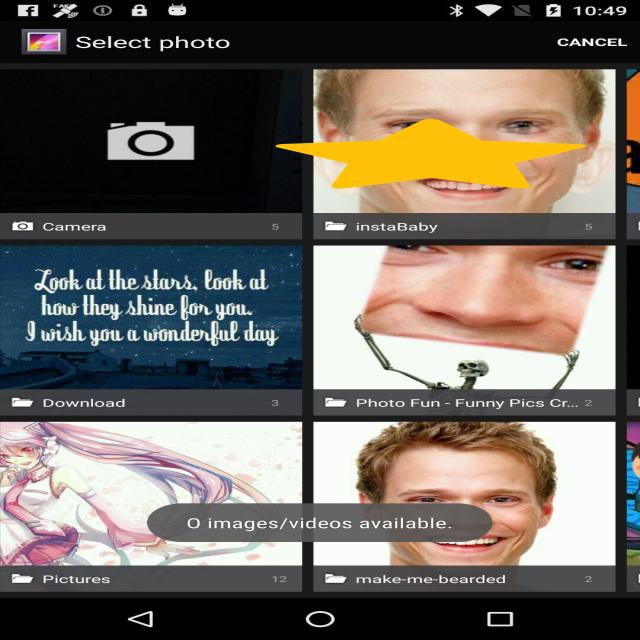forced continuity: (276, 119, 586, 189)
